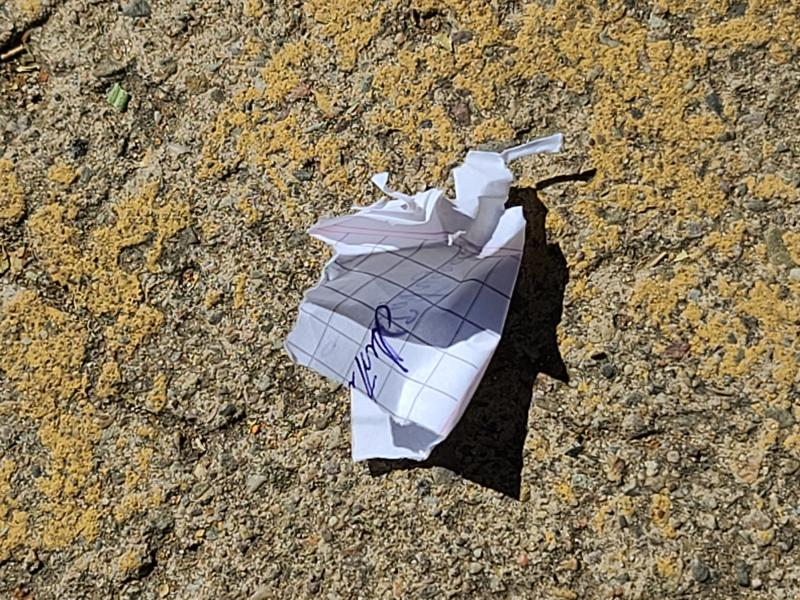papel: (284, 135, 563, 476)
